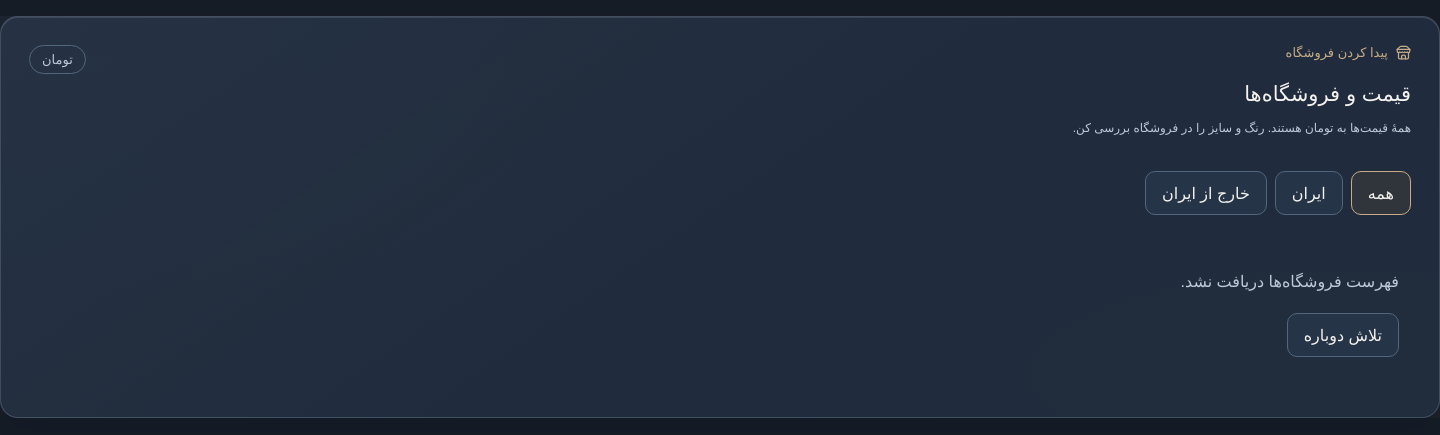
Test: store prices in toman › keeps missing prices unknown and exposes a retry after failure
Expected: the message "فهرست فروشگاه‌ها دریافت نشد. تلاش دوباره" is shown, 1181,273 -> 1399,358
What coordinates should you click on to do the following:
click the button "تلاش دوباره"
I would click on:
 (1343, 336)
Its box is 1287,314 -> 1399,358.
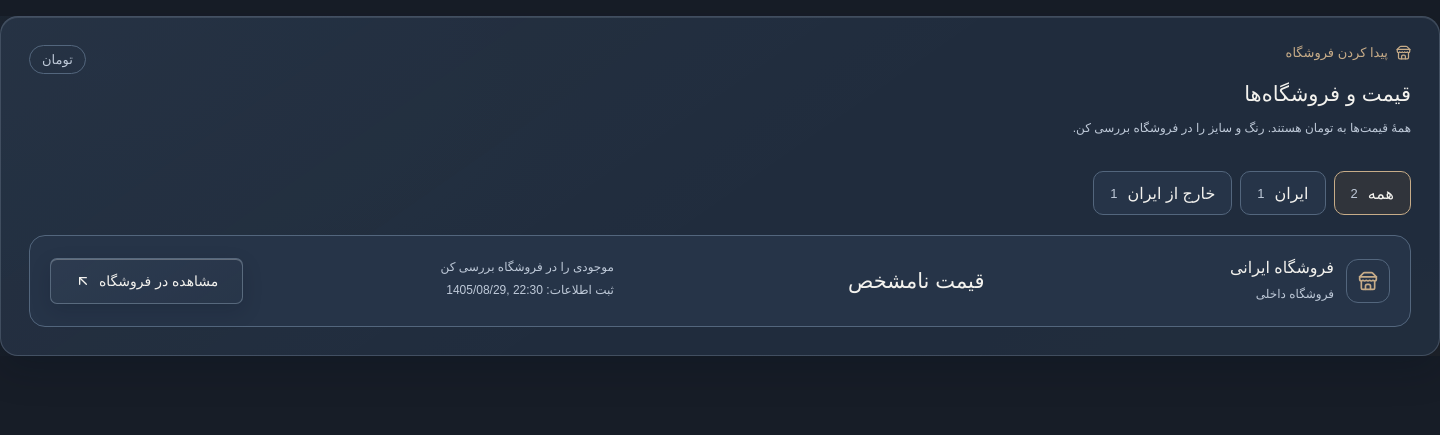
Expected: the text "قیمت نامشخص" is shown, 848,269 -> 984,292
